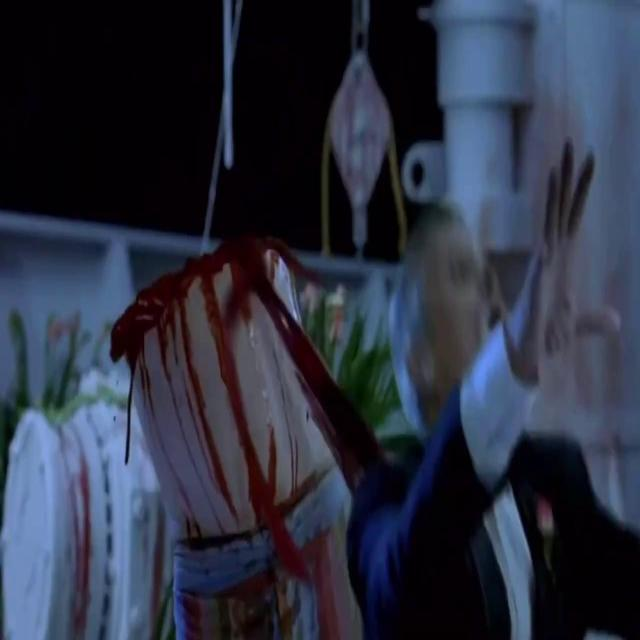flood: (109, 219, 339, 577)
